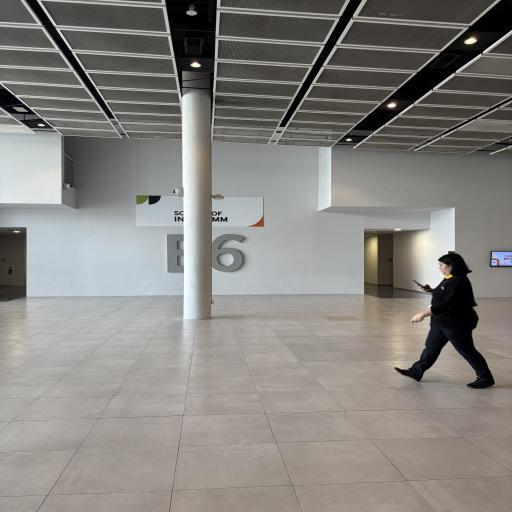person_left: (393, 241, 504, 395)
